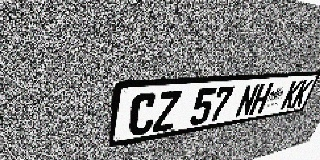5: (189, 87, 217, 126)
7: (207, 86, 235, 123)
C: (127, 92, 158, 137)
H: (248, 83, 274, 116)
K: (280, 80, 304, 110), (290, 80, 314, 108)
N: (234, 84, 260, 118)
Z: (152, 90, 182, 133)
